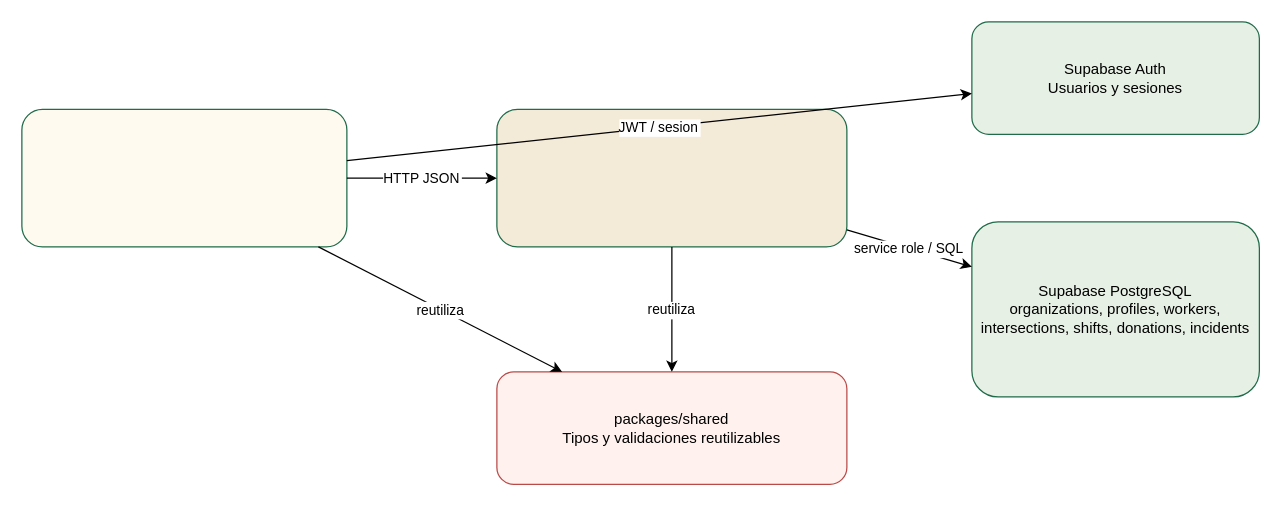
Image size: 1281x506. Some labels were removed from this diagram. The shapes that lost their labels are listed below. From the top down, each one's centre as x and y in pixels, then its label:
At point (184, 177): "Frontend Next.js + React + TypeScript Pantallas, formularios, QR, dashboard".
At point (671, 177): "Backend Express + TypeScript Validaciones, regla de menores, estadisticas".
